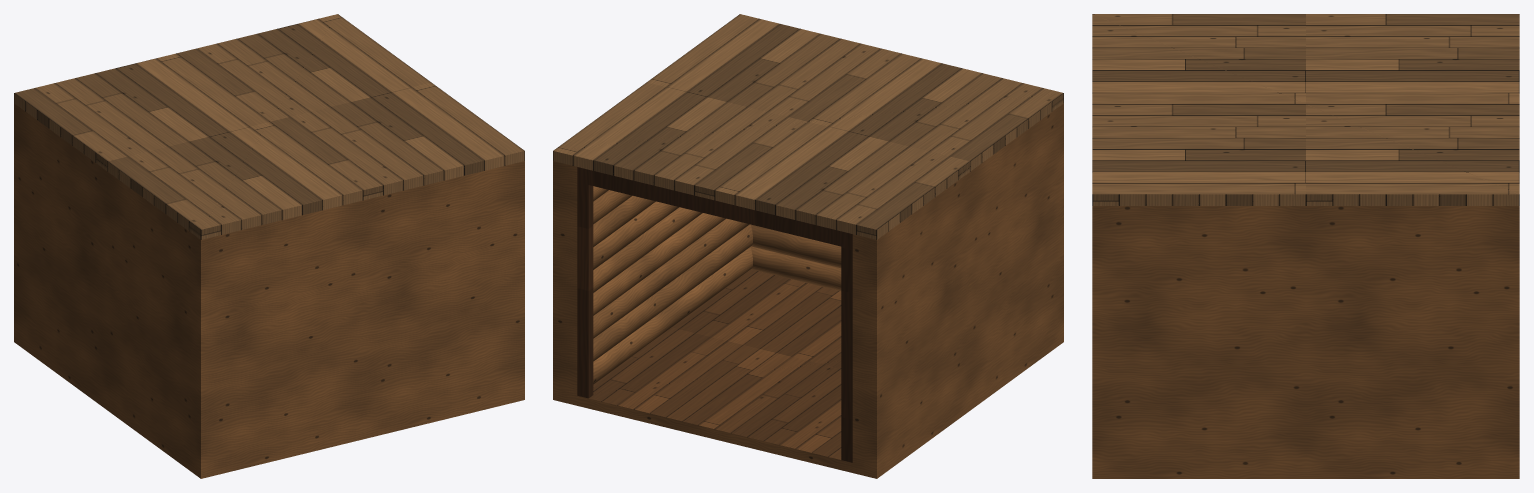
The model's file is Corridor_Cabin_End_NoLight.glb.
3 renders of one model, left to right at view 1: azimuth 30°, elevation 25°; view 2: azimuth 150°, elevation 25°; view 3: azimuth 270°, elevation 25°, orthographic. The views are drawn at different scales.
Visible parts, largest first — view 1: Corridor_Cabin_End_NoLight, Corridor_Cabin_End_NoLight_Ceiling; view 2: Corridor_Cabin_End_NoLight, Corridor_Cabin_End_NoLight_Ceiling; view 3: Corridor_Cabin_End_NoLight, Corridor_Cabin_End_NoLight_Ceiling.
Boxes of the visible parts, x1,y1,x2,y2 form: Corridor_Cabin_End_NoLight: [14, 103, 524, 478]; Corridor_Cabin_End_NoLight_Ceiling: [14, 14, 524, 239]; Corridor_Cabin_End_NoLight: [553, 103, 1063, 478]; Corridor_Cabin_End_NoLight_Ceiling: [553, 14, 1063, 248]; Corridor_Cabin_End_NoLight: [1092, 206, 1519, 478]; Corridor_Cabin_End_NoLight_Ceiling: [1092, 14, 1519, 205].
Size of the model in its own units: 4 by 2.94 by 4.
Materials: 5 (5 with a texture image).
